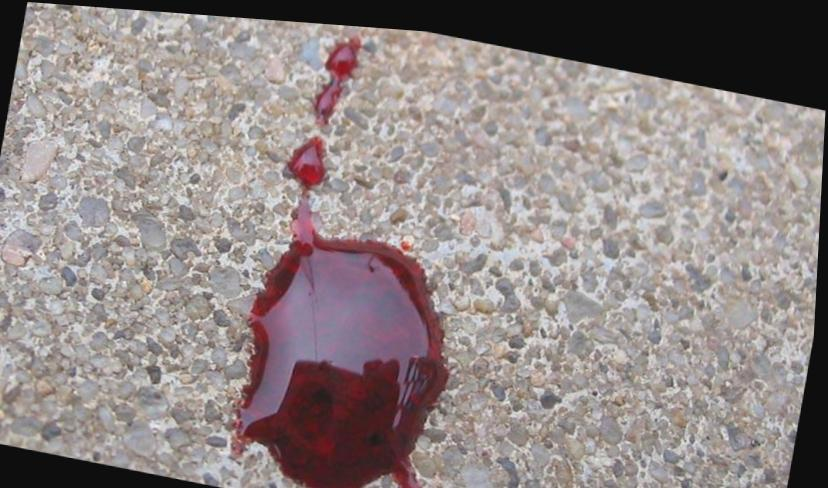Fire: (235, 130, 453, 488), (314, 28, 360, 120)
